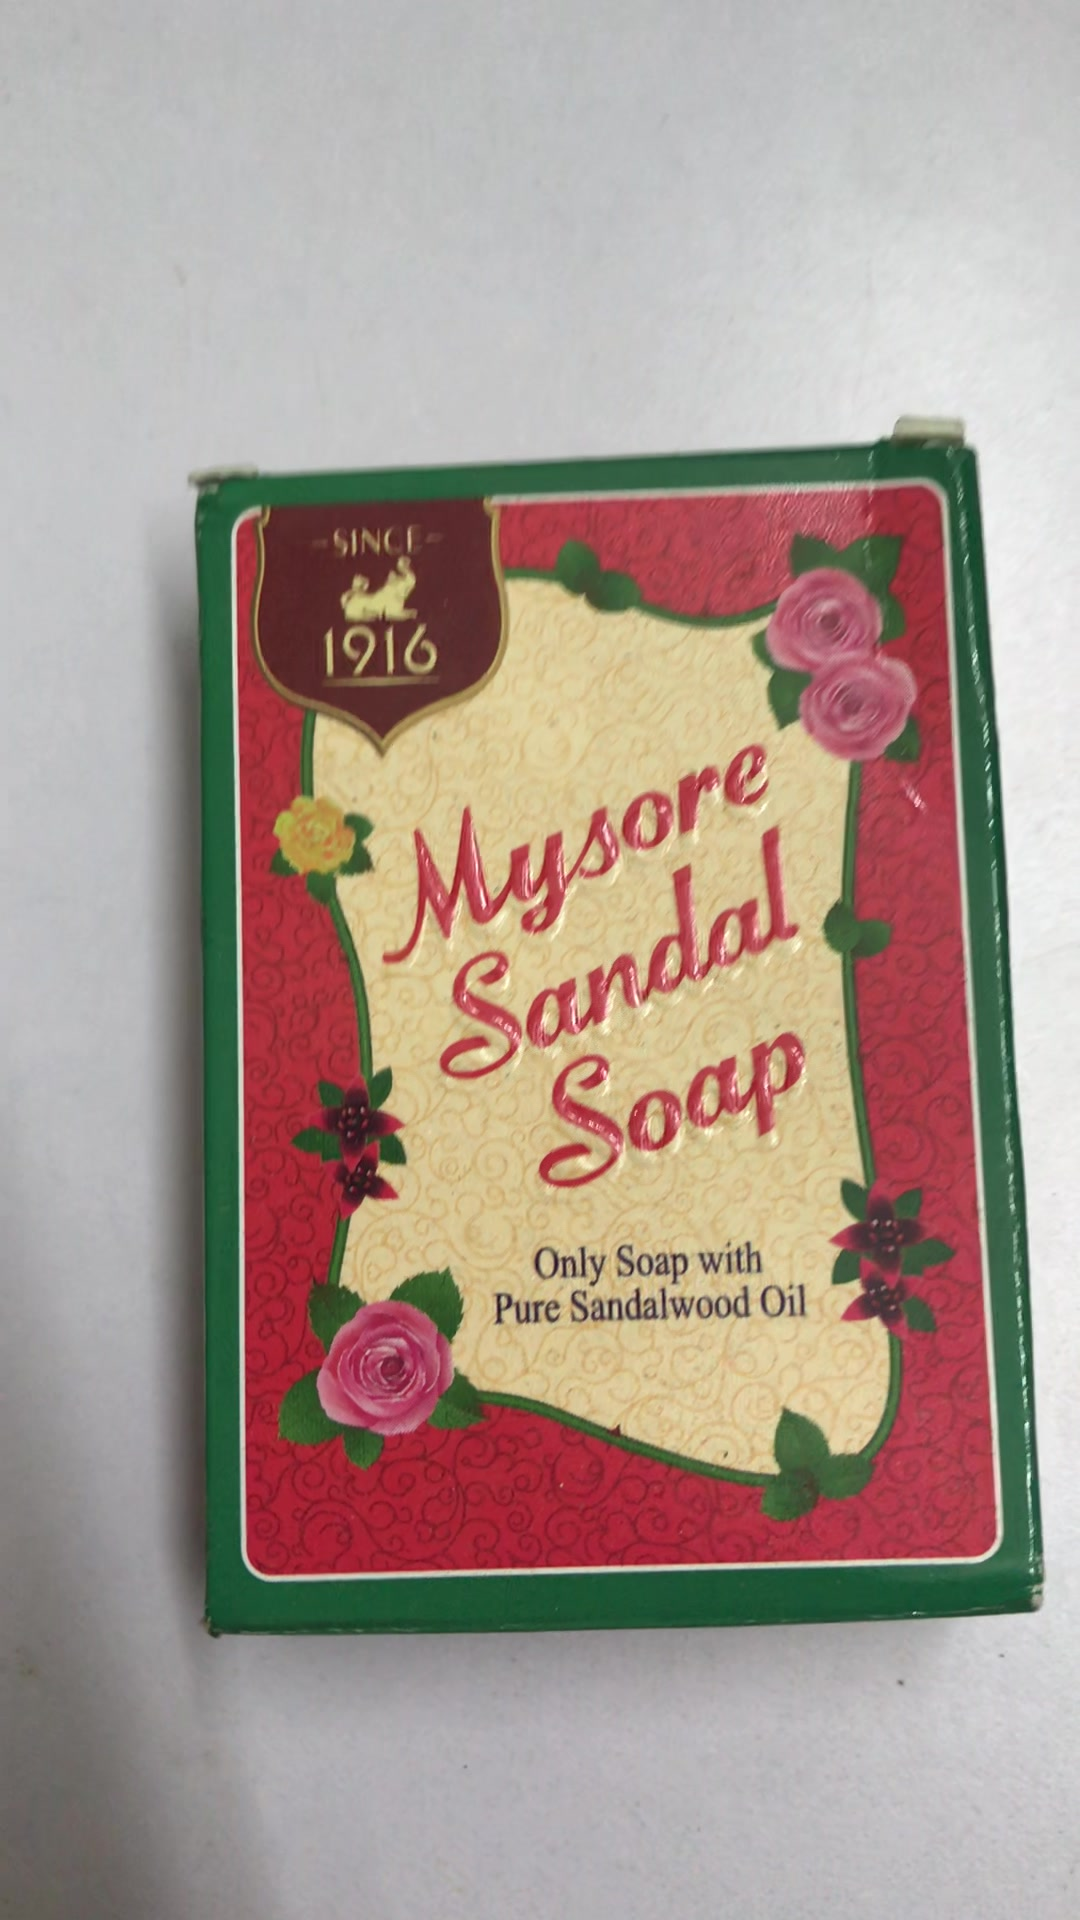mysore sandal soap: (189, 436, 1048, 1629)
